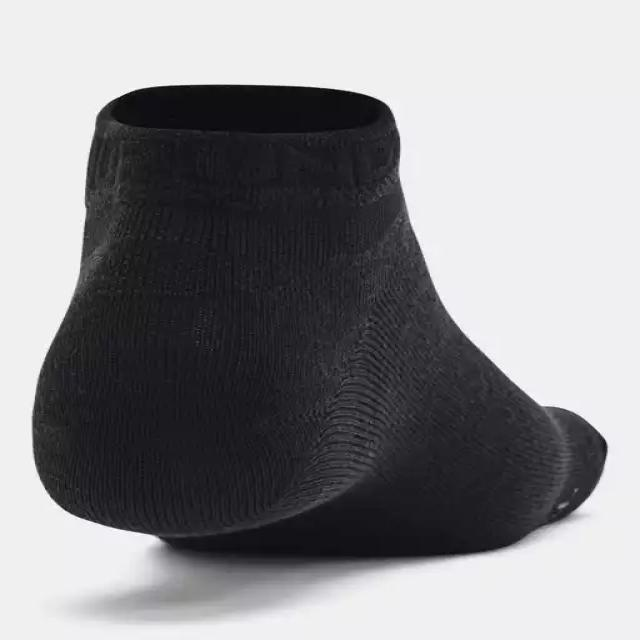sock: (30, 82, 608, 557)
